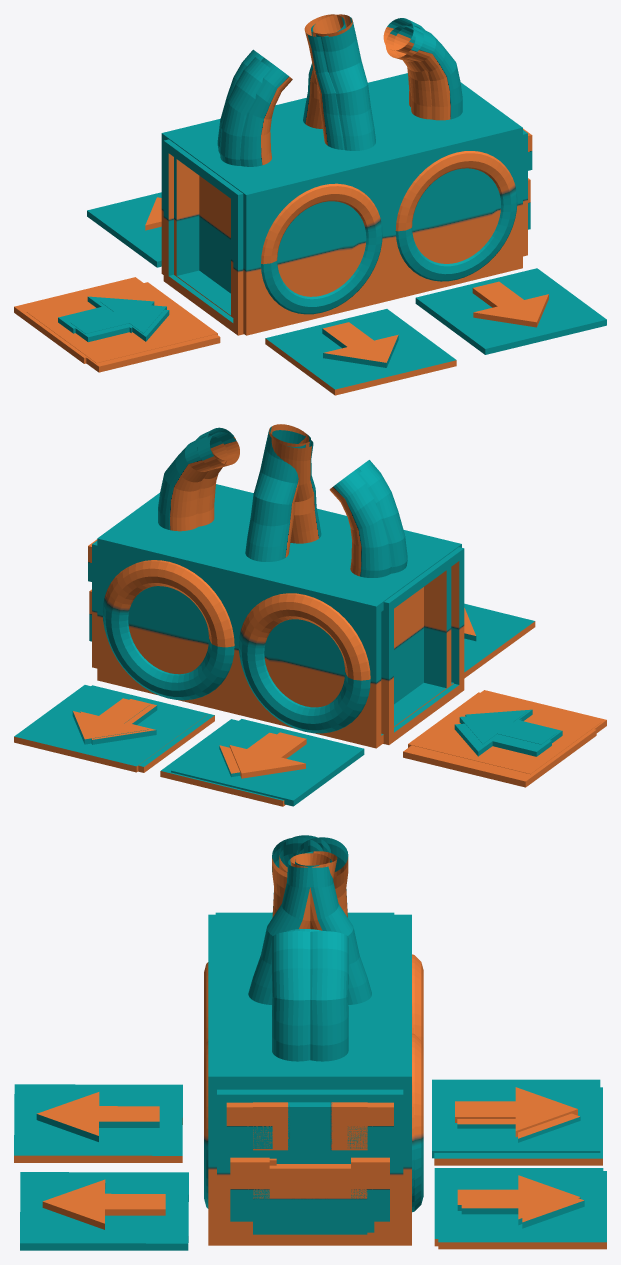
The model's file is Printer.glb.
3 views of the same model, one above another, from view 1: azimuth 30°, elevation 25°; view 2: azimuth 150°, elevation 25°; view 3: azimuth 270°, elevation 25° (orthographic). The views are drawn at different scales.
Parts seen in each view (by area): view 1: Printer1, Printer2, Printer3, Outlet3, Outlet4, Inlet3, Outlet5, Inlet2, Inlet1; view 2: Printer2, Printer3, Printer1, Outlet5, Outlet6, Inlet3, Inlet2, Outlet3, Outlet1, Outlet2, Inlet1; view 3: Printer1, Printer2, Outlet4, Outlet3, Outlet6, Outlet5, Printer3, Outlet1, Outlet2.
Boxes of the visible parts, x1,y1,x2,y2 form: Printer1: [172, 14, 532, 335]; Printer2: [161, 17, 517, 317]; Printer3: [163, 14, 431, 335]; Outlet3: [265, 309, 456, 395]; Outlet4: [415, 268, 606, 354]; Inlet3: [26, 282, 217, 363]; Outlet5: [87, 192, 161, 267]; Inlet2: [14, 277, 154, 363]; Inlet1: [34, 305, 220, 372]; Printer2: [88, 424, 451, 748]; Printer3: [103, 430, 464, 744]; Printer1: [102, 427, 461, 726]; Outlet5: [171, 719, 364, 806]; Outlet6: [14, 685, 206, 772]; Inlet3: [408, 692, 600, 774]; Inlet2: [403, 719, 596, 787]; Outlet3: [464, 603, 535, 678]; Outlet1: [160, 719, 285, 806]; Outlet2: [80, 685, 214, 772]; Inlet1: [465, 690, 606, 771]; Printer1: [208, 837, 414, 1245]; Printer2: [204, 837, 411, 1245]; Outlet4: [20, 1172, 188, 1250]; Outlet3: [14, 1084, 182, 1162]; Outlet6: [438, 1171, 606, 1249]; Outlet5: [432, 1079, 600, 1158]; Printer3: [215, 835, 423, 1232]; Outlet1: [434, 1087, 602, 1165]; Outlet2: [434, 1168, 603, 1246].
Size of the model in its own units: 10.09 by 5.57 by 9.78.
1 material, 1 textured.
